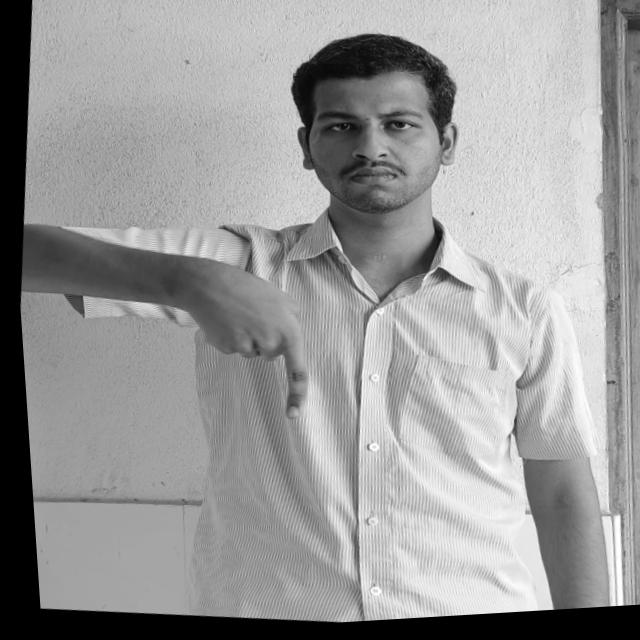Now: (169, 264, 320, 436)
